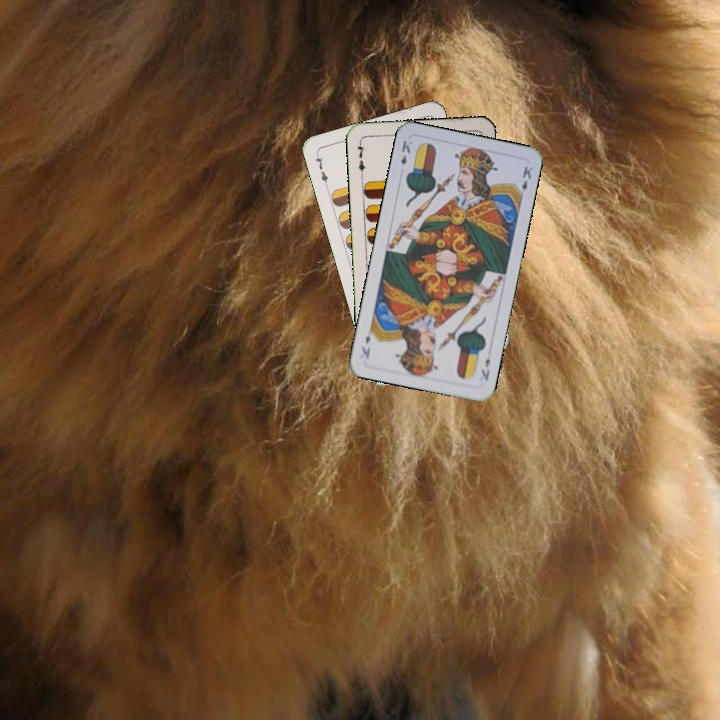E7: (311, 150, 331, 189), (353, 137, 368, 178)
EK: (397, 136, 415, 168), (477, 354, 493, 383)
